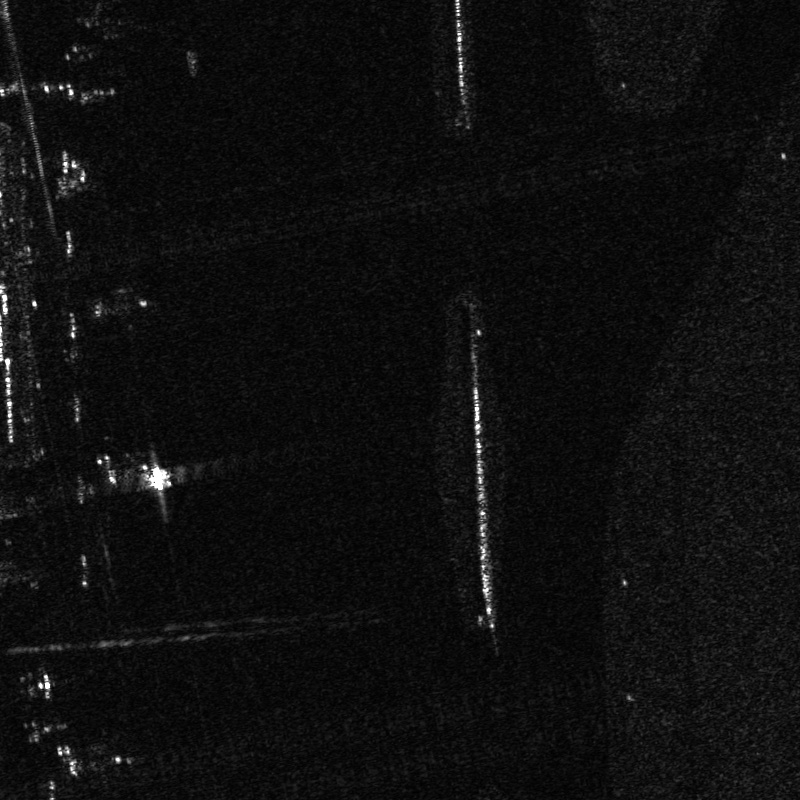A220: (83, 419, 202, 519), (38, 734, 144, 791), (85, 273, 162, 342)
A320/321: (33, 1, 165, 75)
